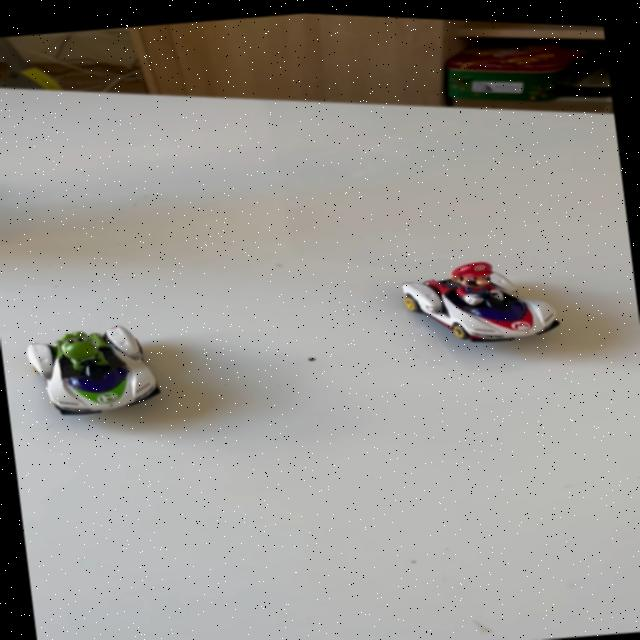mario: (372, 234, 588, 361)
yoshi: (12, 311, 182, 432)
